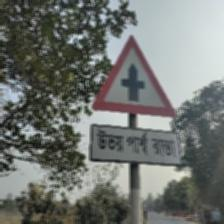Crossroad: (89, 35, 183, 170)
